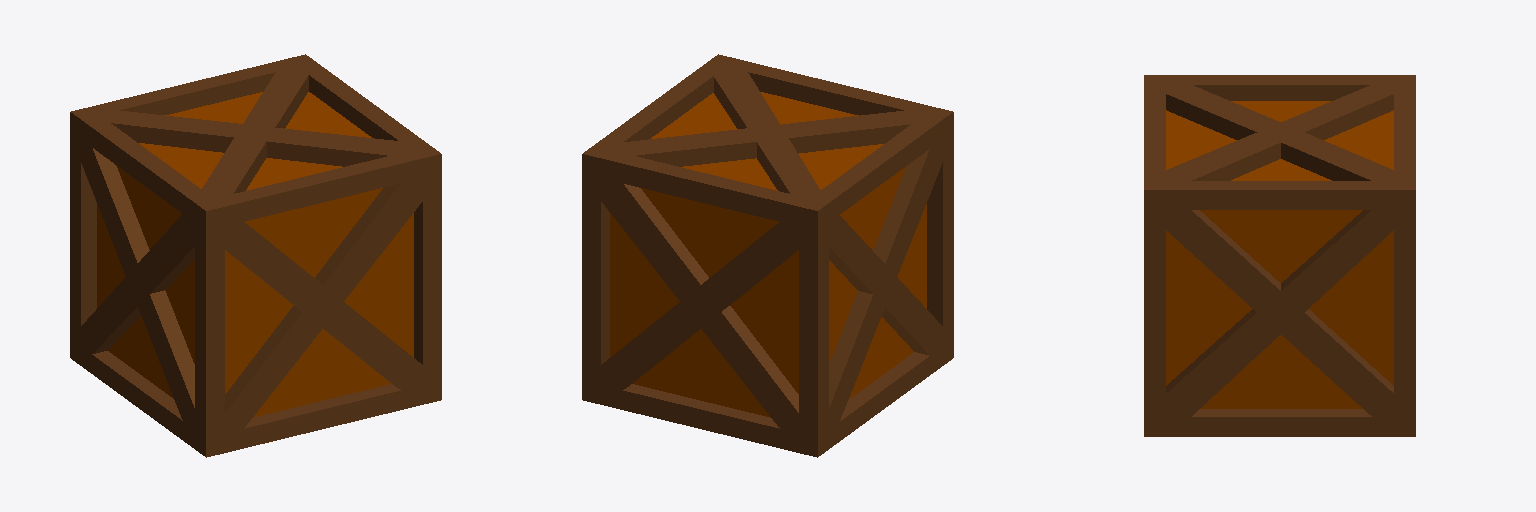
3 renders of one model, left to right at view 1: azimuth 30°, elevation 25°; view 2: azimuth 150°, elevation 25°; view 3: azimuth 270°, elevation 25°, orthographic.
Parts seen in each view (by area): view 1: Mesh1 Group1 Model; view 2: Mesh1 Group1 Model; view 3: Mesh1 Group1 Model.
Part boxes in pixels (left/top/right/bottom): Mesh1 Group1 Model: left=70, top=54, right=441, bottom=457; Mesh1 Group1 Model: left=582, top=54, right=953, bottom=457; Mesh1 Group1 Model: left=1144, top=75, right=1415, bottom=436.
Size of the model in its own units: 5.12 by 5.12 by 5.12.
Materials: 2 (1 with a texture image).